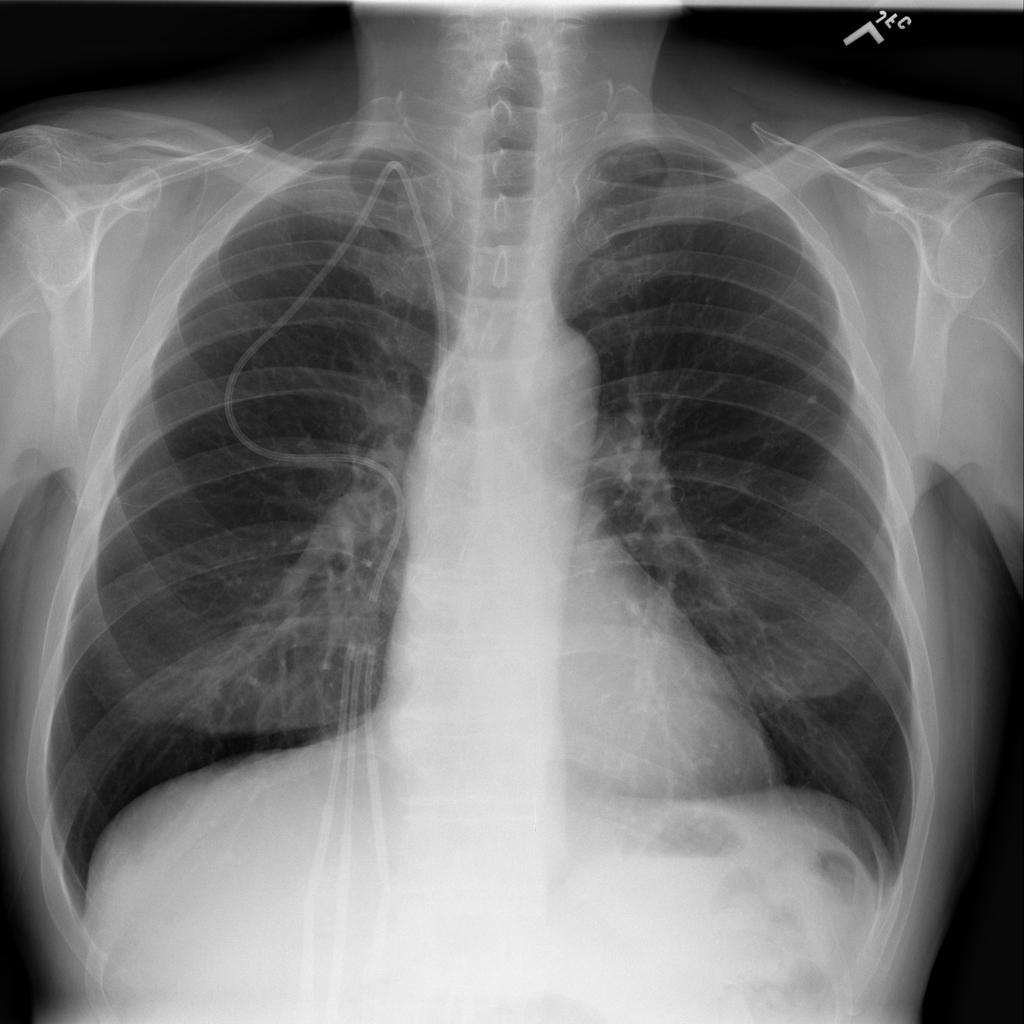nodule: (787, 369, 837, 421)
